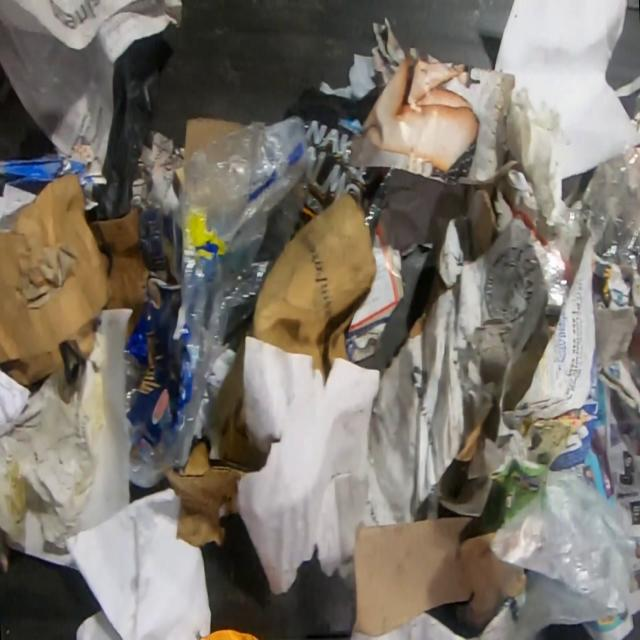cardboard: (0, 170, 112, 392), (250, 190, 376, 385), (349, 513, 527, 640), (162, 336, 267, 547), (125, 206, 200, 463), (89, 207, 164, 346), (344, 206, 406, 362), (0, 148, 95, 221), (466, 182, 497, 260), (184, 117, 246, 153)
soft_plastic: (129, 115, 315, 487), (490, 467, 639, 640), (282, 81, 392, 243), (565, 145, 640, 274), (530, 237, 568, 319), (124, 346, 141, 414)
